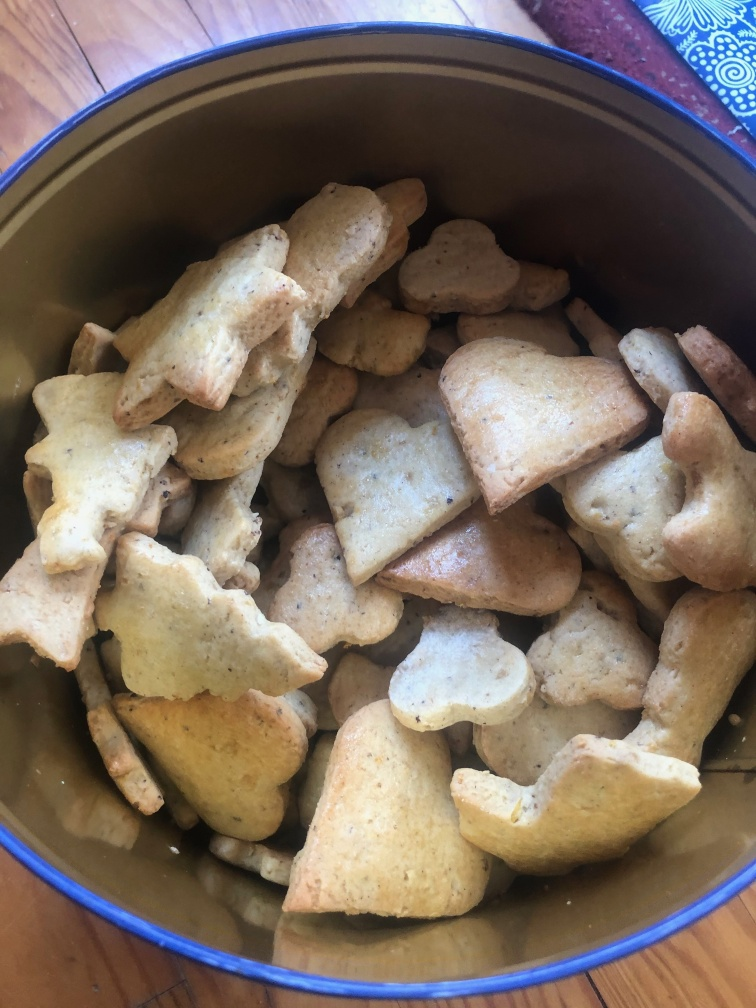christmas tree: (95, 535, 328, 710)
flake: (385, 600, 537, 733), (267, 524, 400, 645), (395, 216, 514, 306)
heart: (277, 699, 489, 917), (441, 336, 647, 510), (117, 691, 305, 841), (316, 409, 479, 581)
king mage: (23, 373, 173, 574)
lamb: (660, 389, 756, 590)
star: (114, 228, 306, 432)
